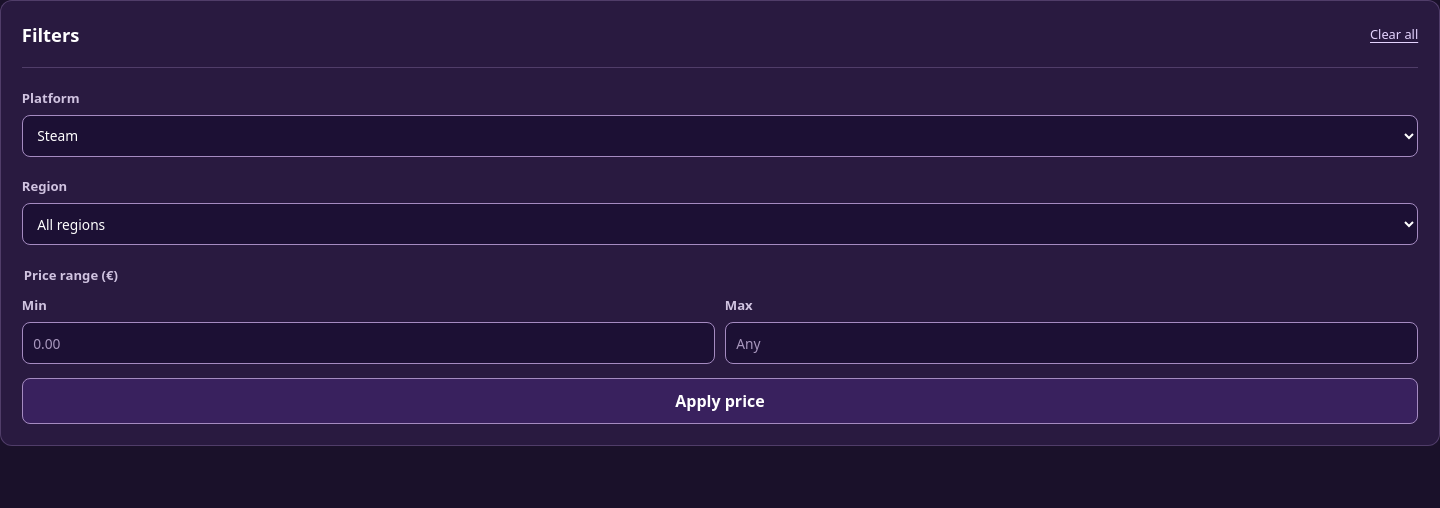
catalog price-filter drafts › clears an unsubmitted draft even when the URL has no applied price range
Step 1. Type "20" into the field labelled "Min" → (368, 343), box [22,322,715,364]
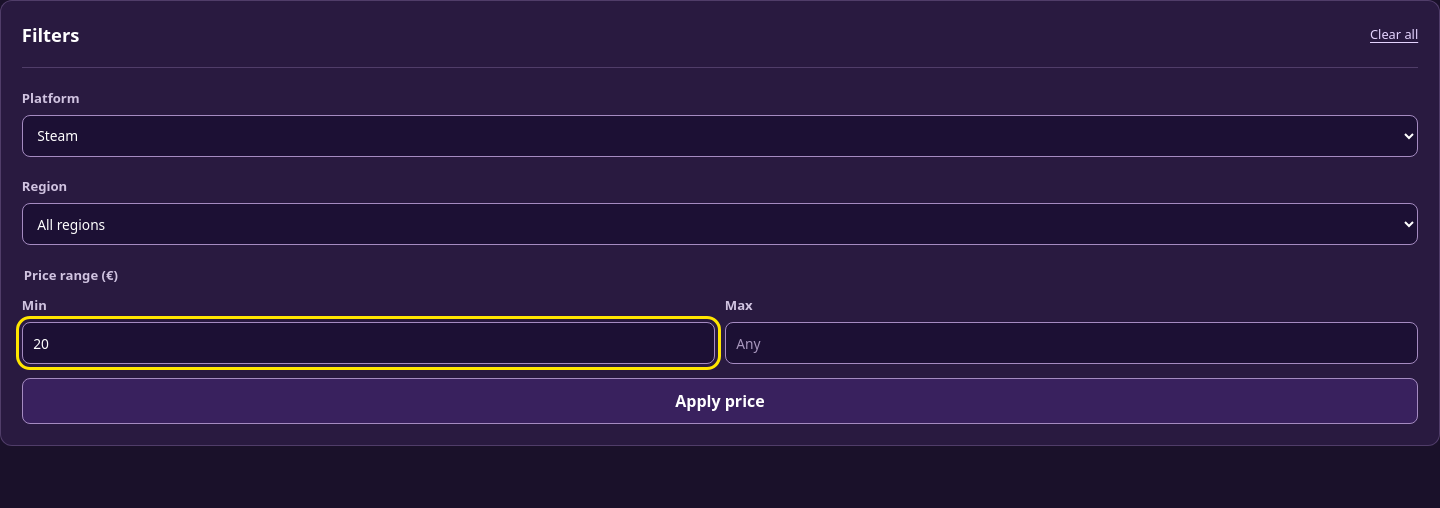
Step 2. Type "10" into the field labelled "Max" → (1072, 343), box [725,322,1418,364]
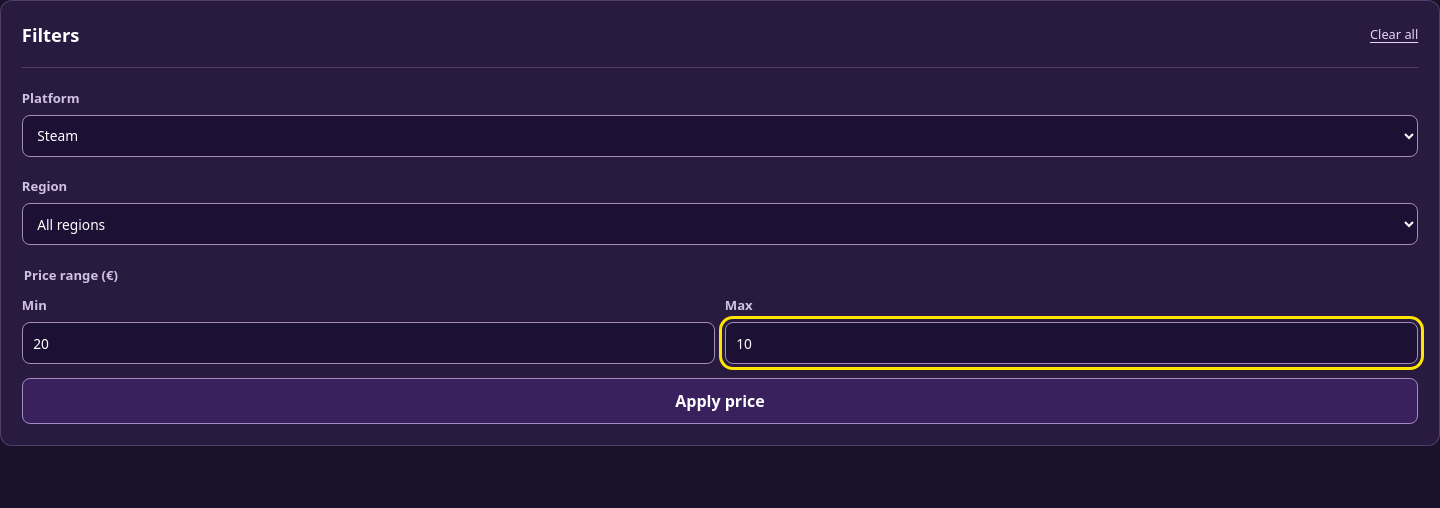
Step 3. Click the button "Apply price" → (720, 401), box [22,378,1418,424]
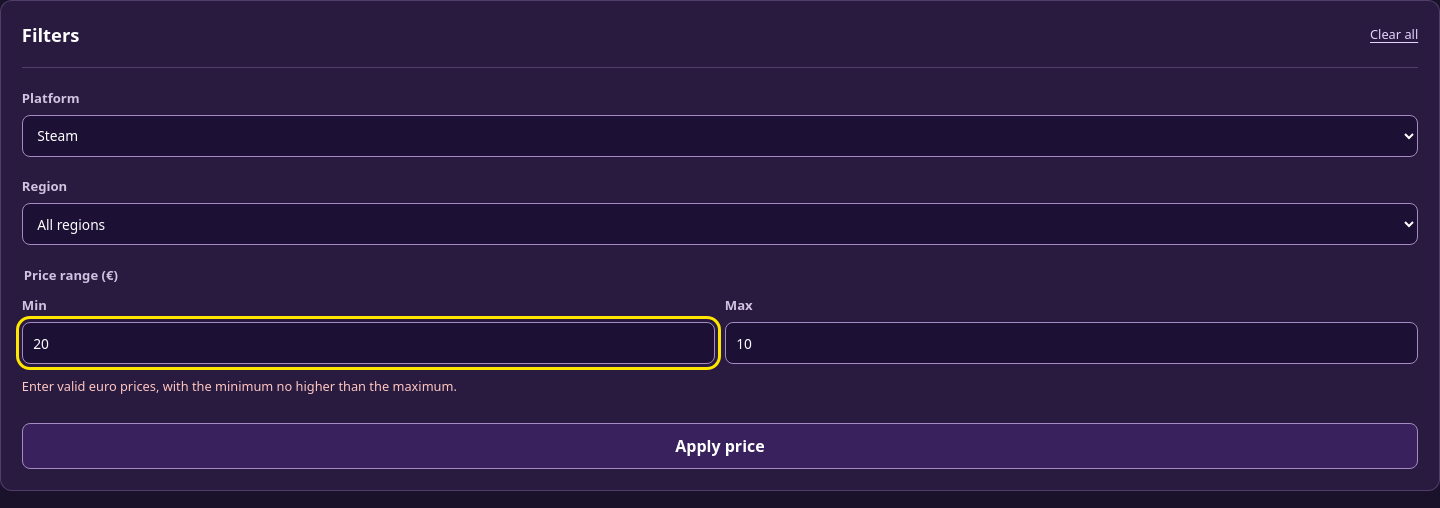
Result: the message shows "minimum no higher" at [22,377,457,395]
Step 4. Click the button "Clear all" → (1394, 34), box [1370,25,1418,43]
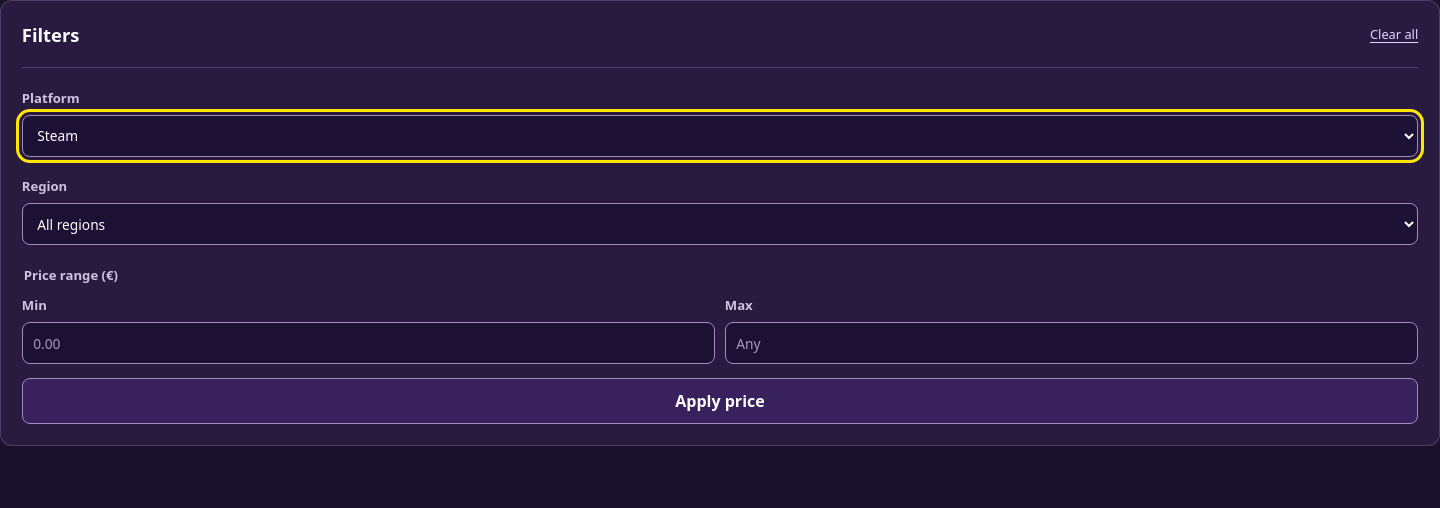
Result: the field labelled "Min" is empty at [22,322,715,364]
Result: the field labelled "Max" is empty at [725,322,1418,364]
Result: the message "Enter valid euro prices, with the minimum no higher than the maximum." is gone
